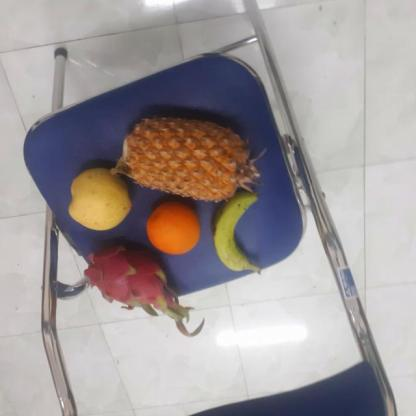orange: (145, 197, 204, 255)
pear: (66, 166, 134, 230)
pineapple: (118, 114, 260, 202)
pitaya: (88, 241, 178, 308)
